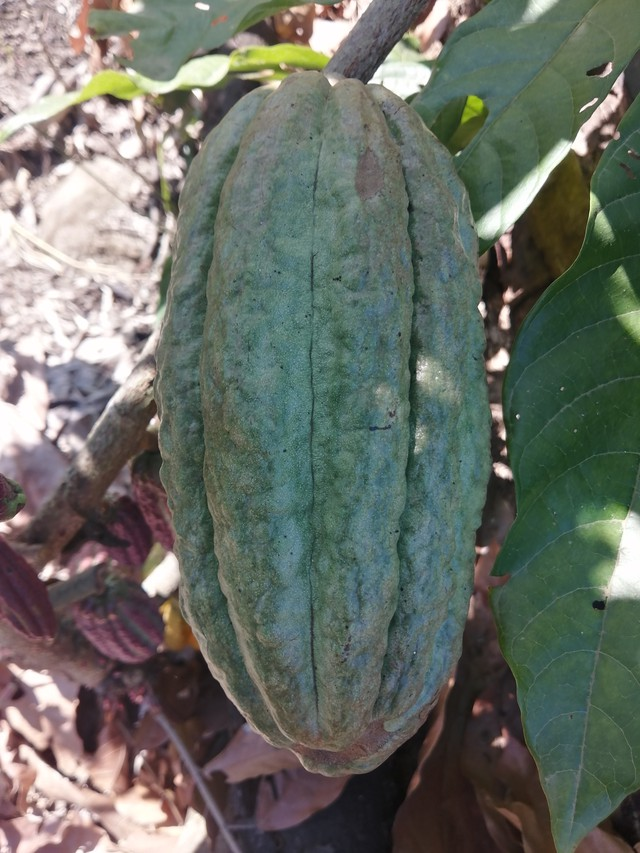Health: (135, 52, 507, 786)
